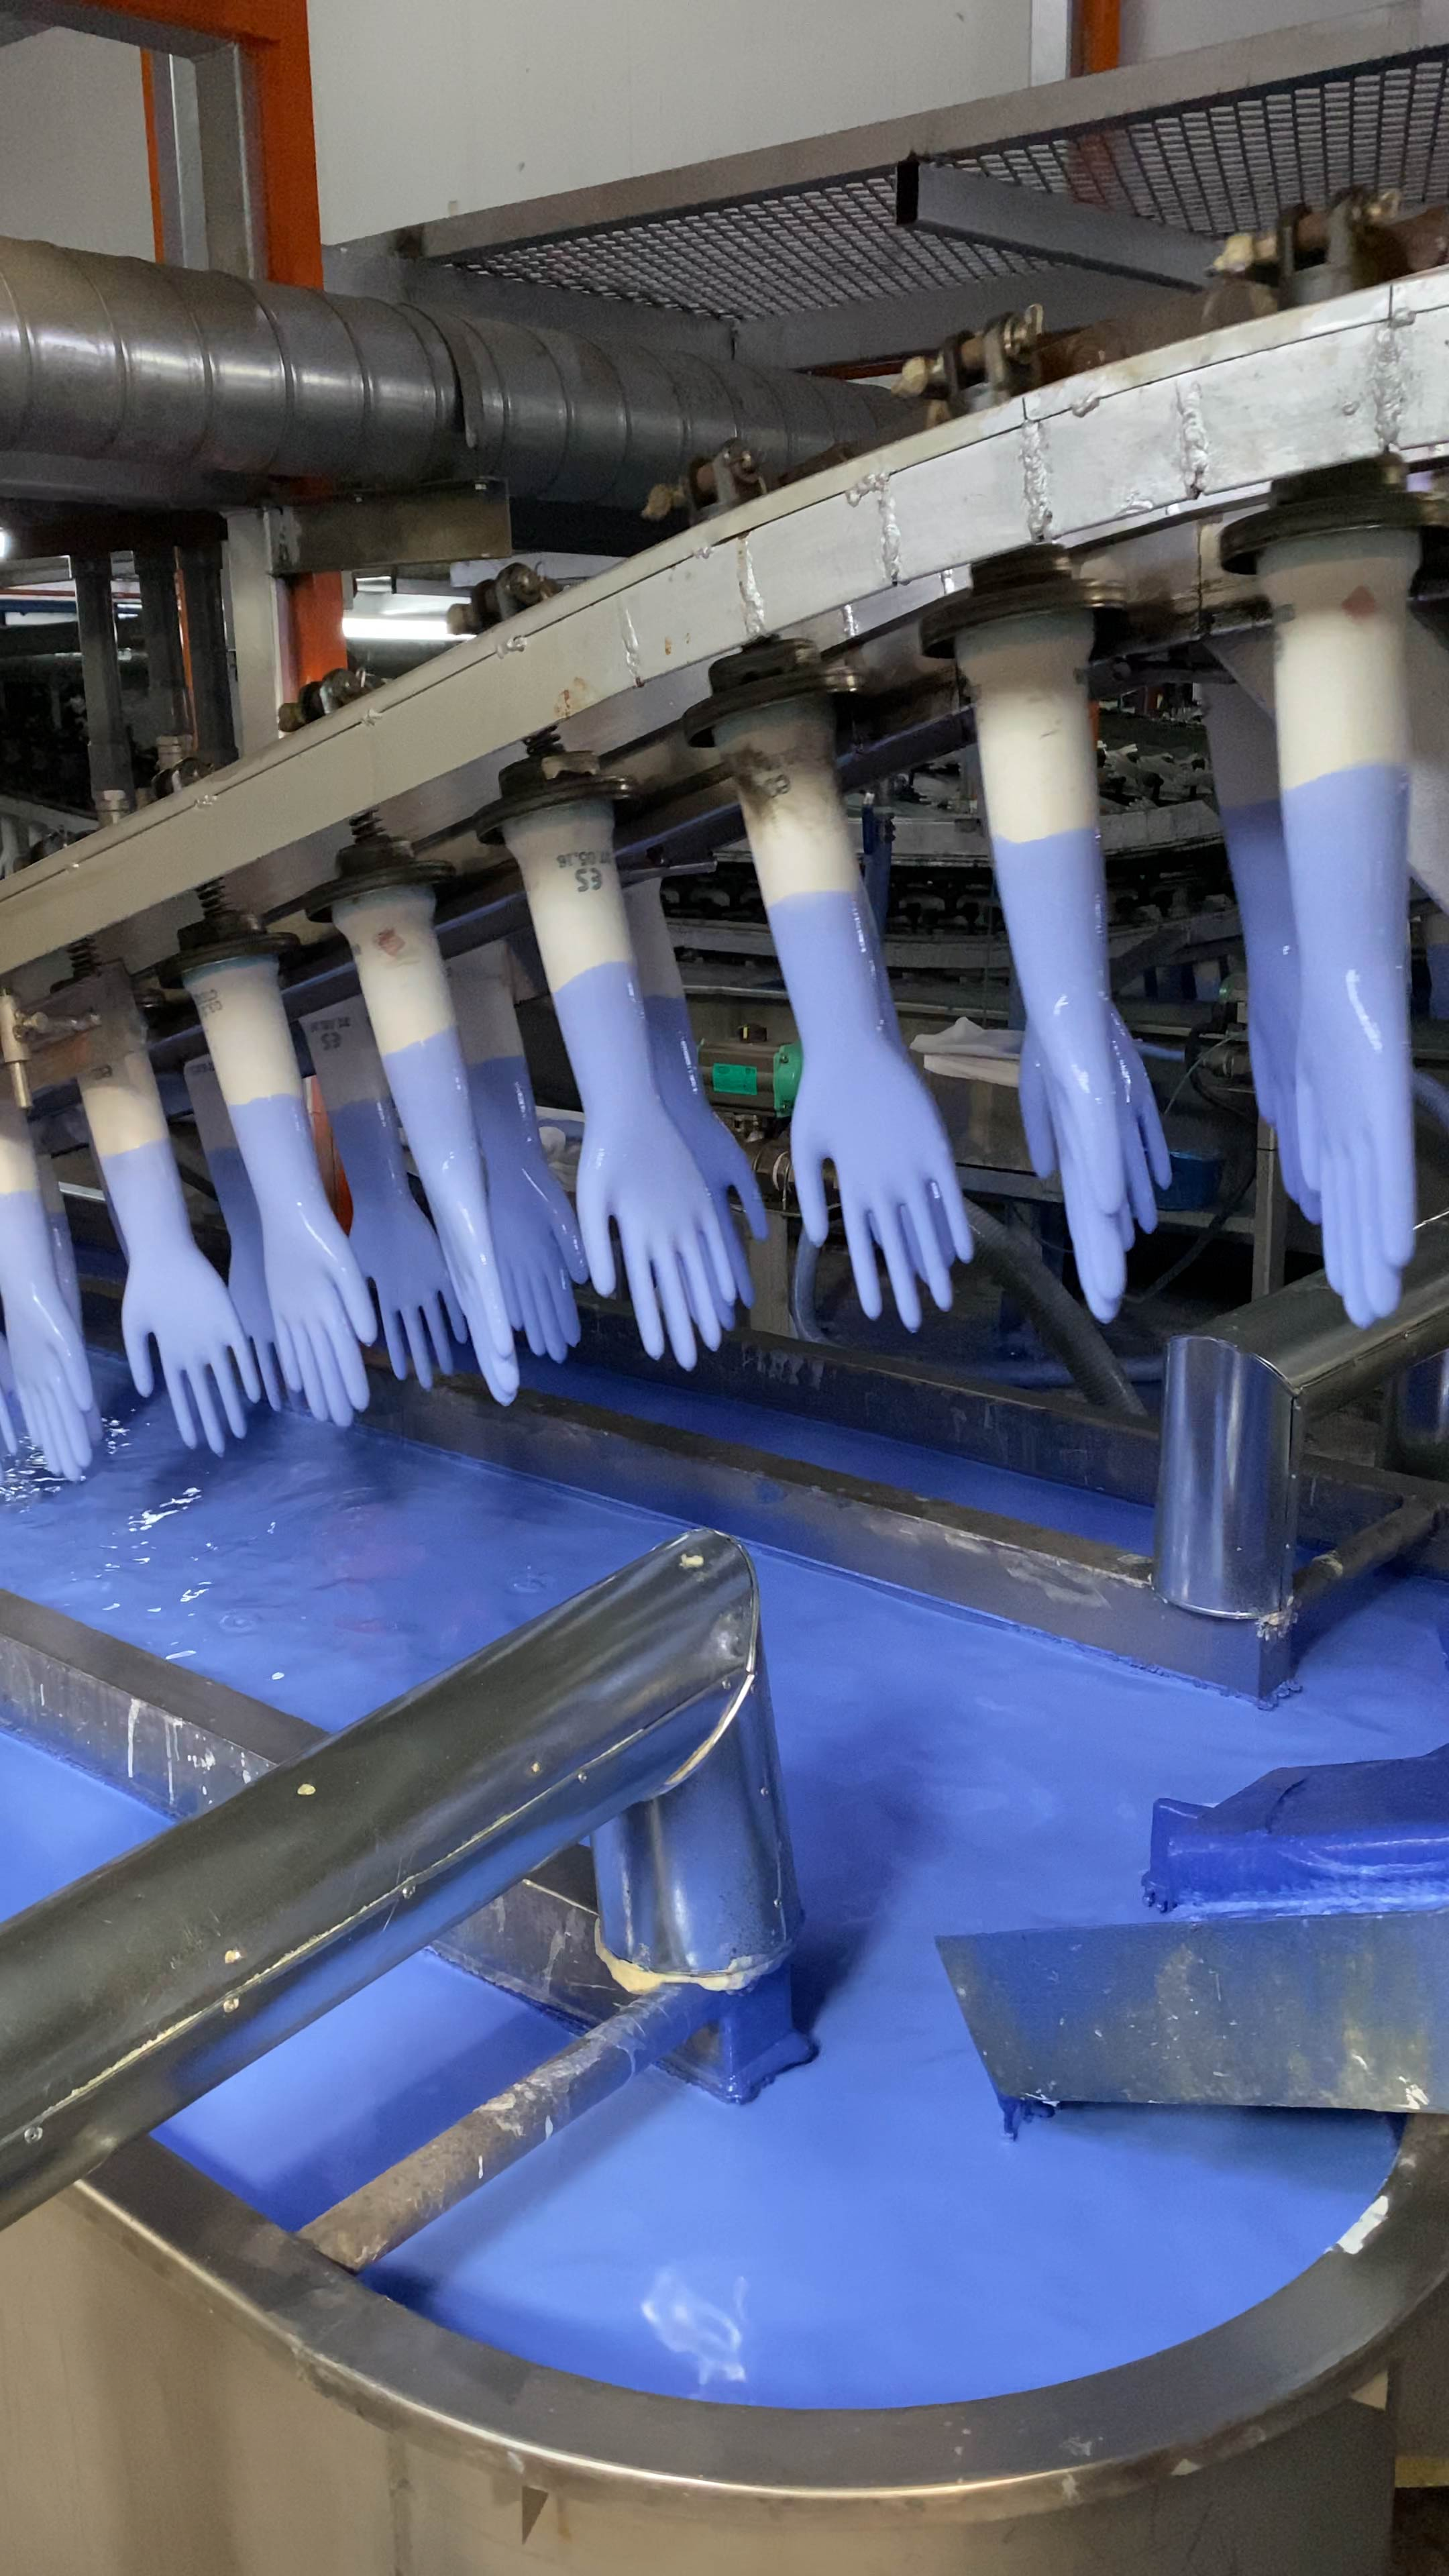glove: (763, 895, 971, 1329), (1281, 763, 1415, 1327), (552, 962, 736, 1368), (991, 830, 1125, 1322), (384, 1030, 518, 1405), (101, 1138, 262, 1451), (232, 1097, 379, 1426), (1221, 796, 1323, 1228), (644, 996, 766, 1323), (333, 1099, 469, 1387), (1017, 993, 1171, 1244), (469, 1058, 587, 1362), (0, 1192, 94, 1481), (207, 1146, 294, 1410)
